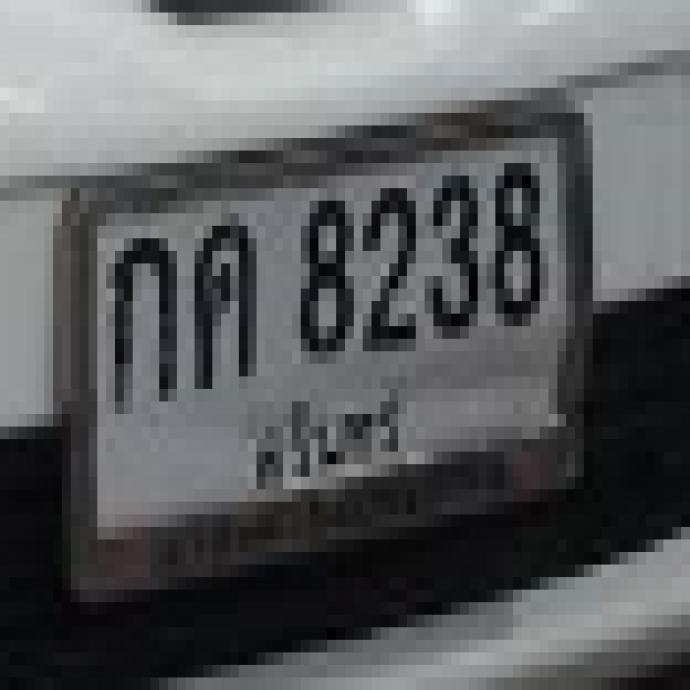2: (361, 178, 412, 342)
3: (424, 167, 474, 328)
8: (295, 190, 348, 350), (490, 155, 538, 314)
A01: (108, 227, 171, 399)
A04: (190, 214, 251, 383)
